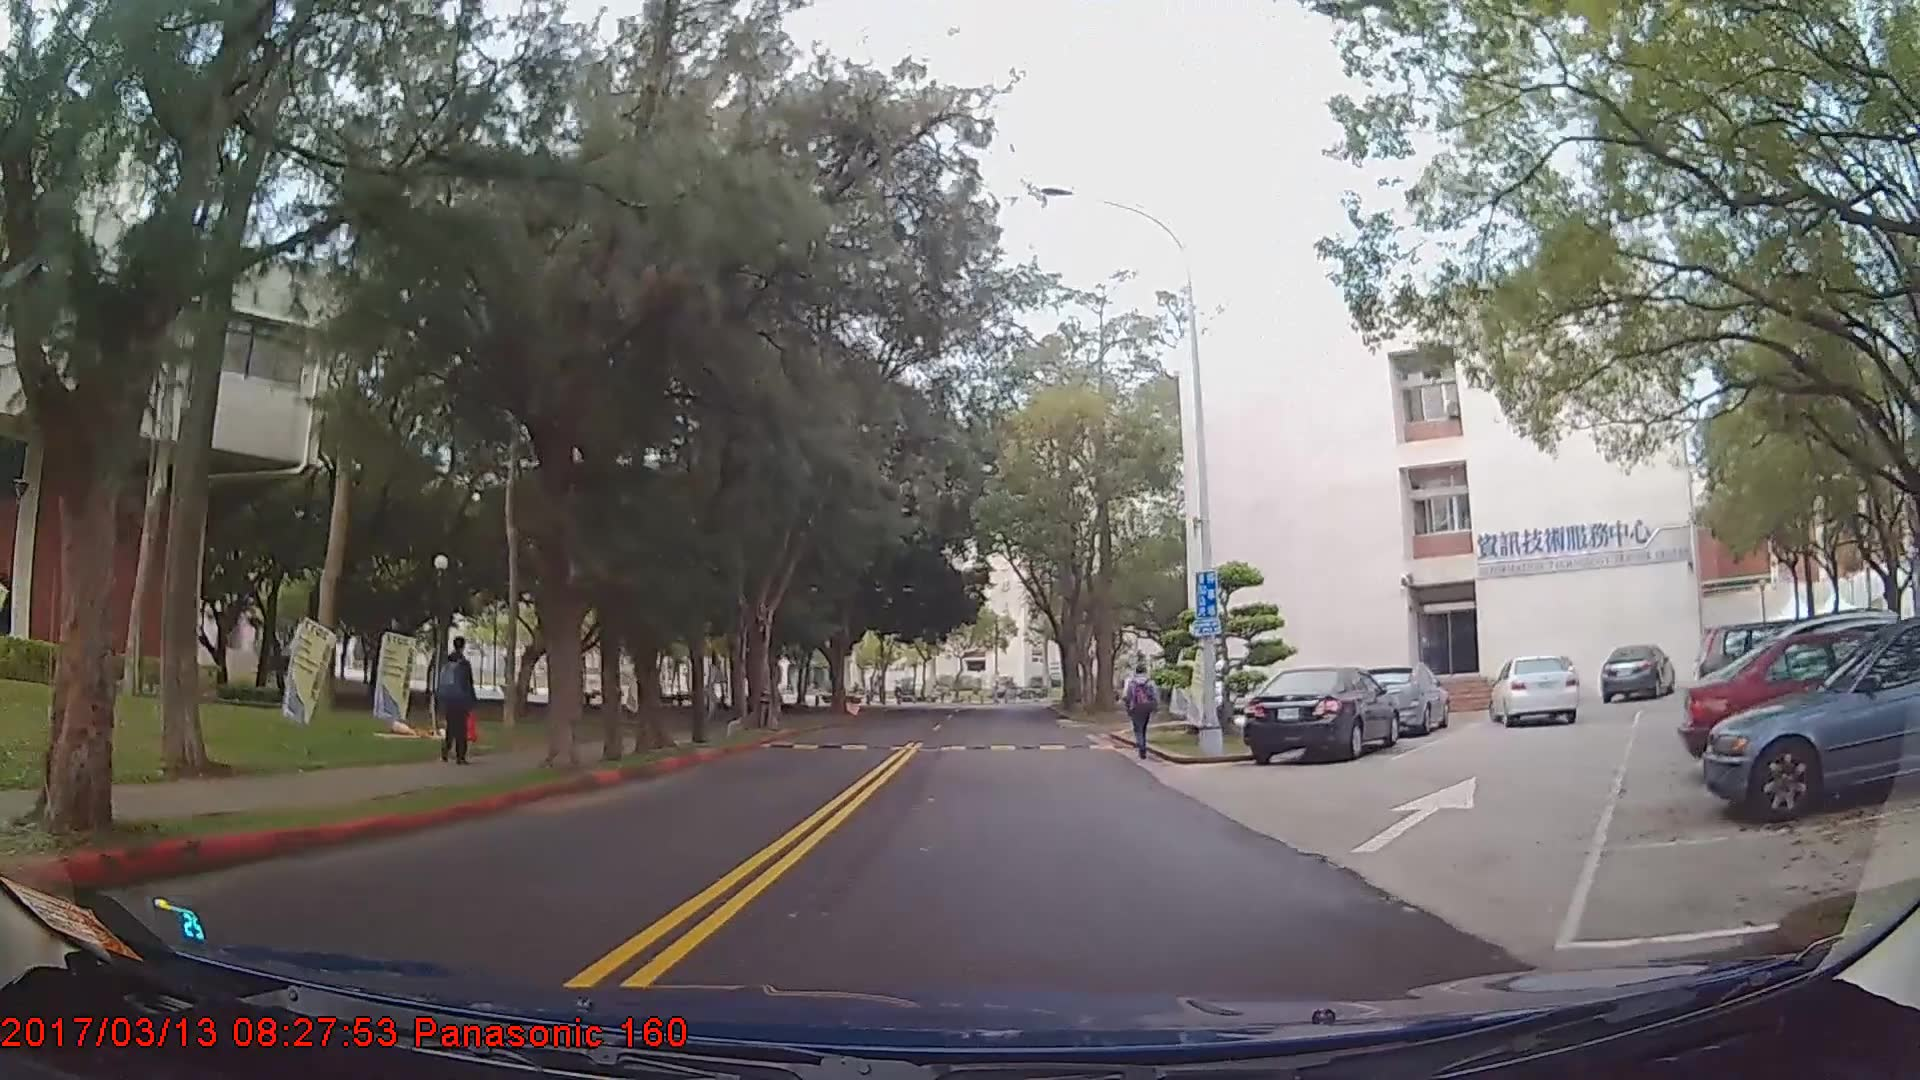pedestrian: (433, 646, 476, 774), (1127, 664, 1162, 763)
vehicle: (1702, 619, 1920, 825), (1675, 624, 1920, 772), (1243, 665, 1400, 763), (1356, 659, 1452, 737), (1491, 654, 1580, 727), (1598, 642, 1674, 702)
